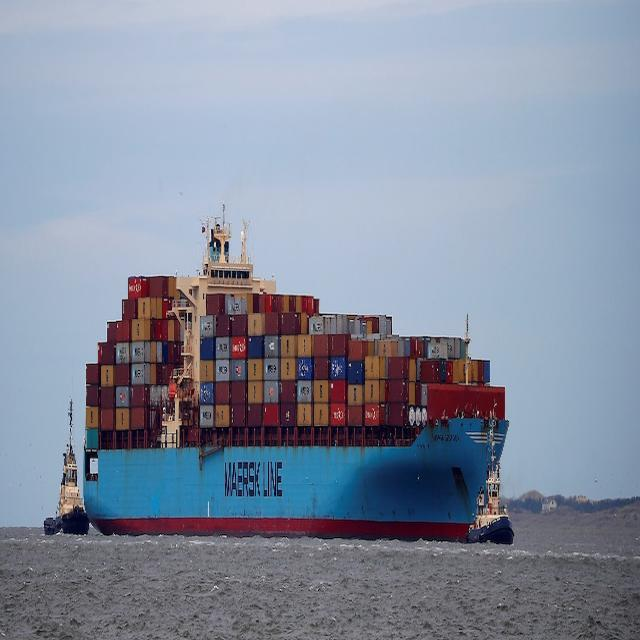boat: (72, 198, 511, 568)
